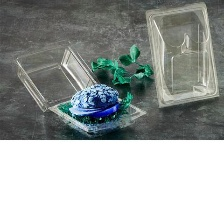plastic_box: (8, 34, 150, 139), (140, 0, 224, 112)
